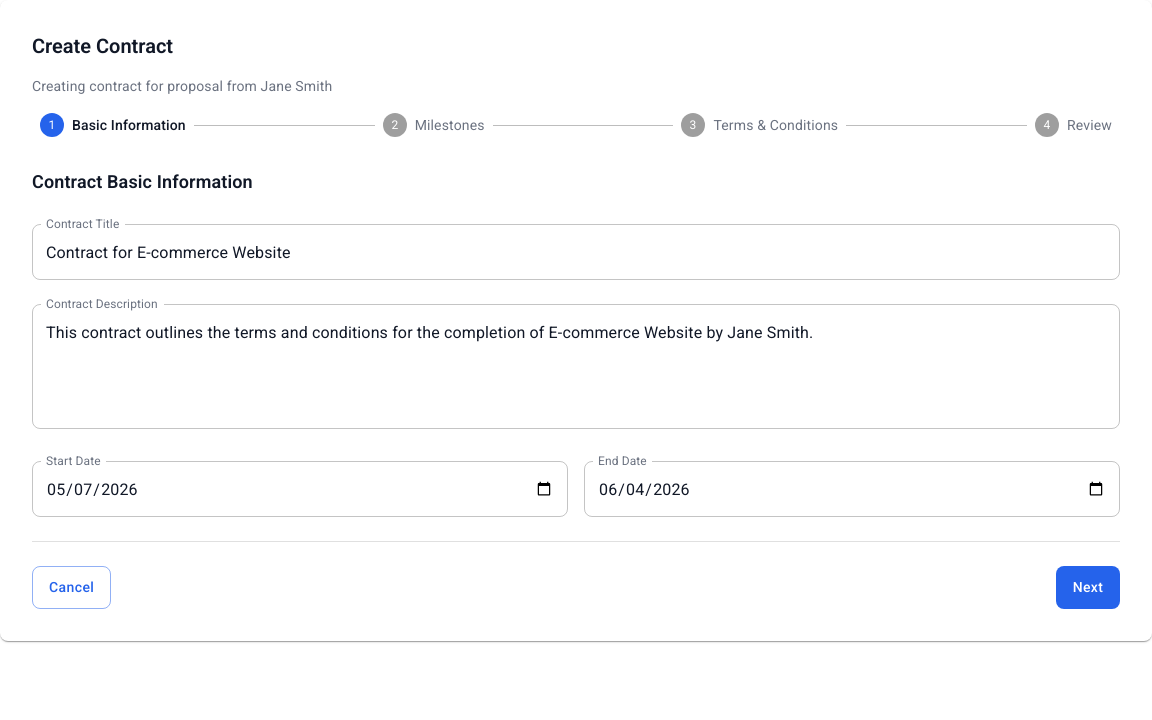
Scenario: ContractForm › validates form fields
// Clear title and try to proceed
Clear the field labelled "Contract Title" at (576, 252), box [32, 224, 1120, 280]
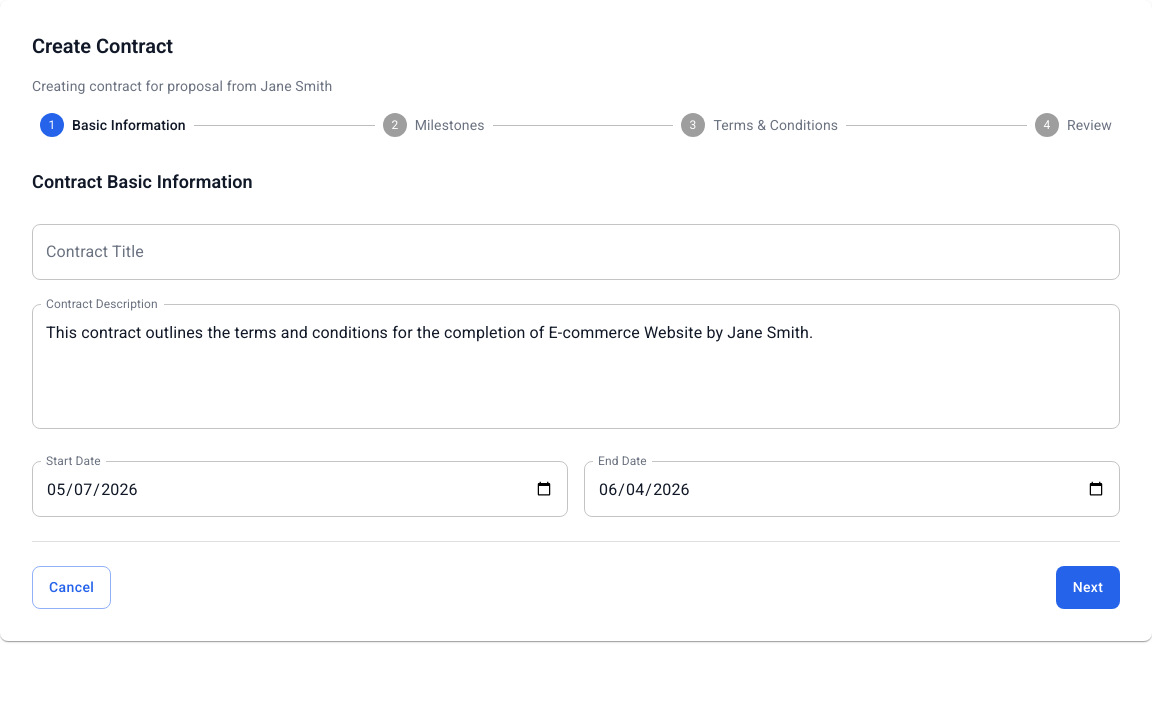
Leave the field labelled "Contract Title", box [32, 224, 1120, 280]
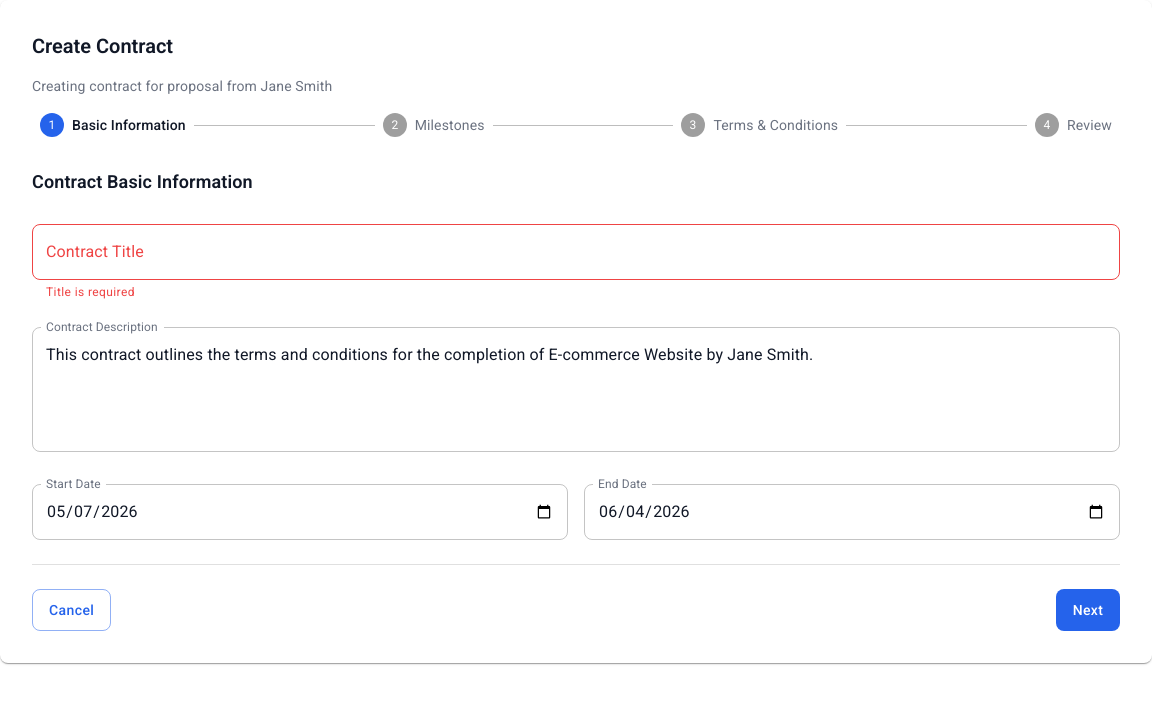
Check: the text "Title is required" is shown, box [46, 285, 135, 299]
